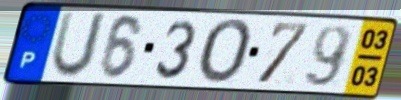3: (153, 18, 198, 81)
6: (96, 13, 148, 82)
7: (257, 20, 312, 86)
9: (301, 23, 357, 88)
O: (195, 17, 256, 87)
U: (47, 9, 111, 81)
